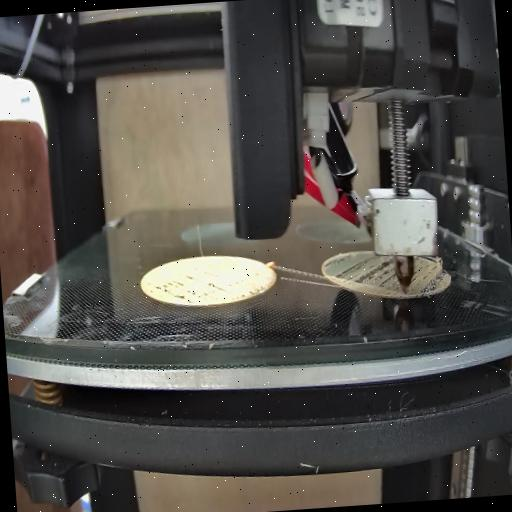under_extrusion: (329, 254, 398, 292), (147, 276, 226, 308), (412, 254, 450, 298), (242, 280, 268, 298)
